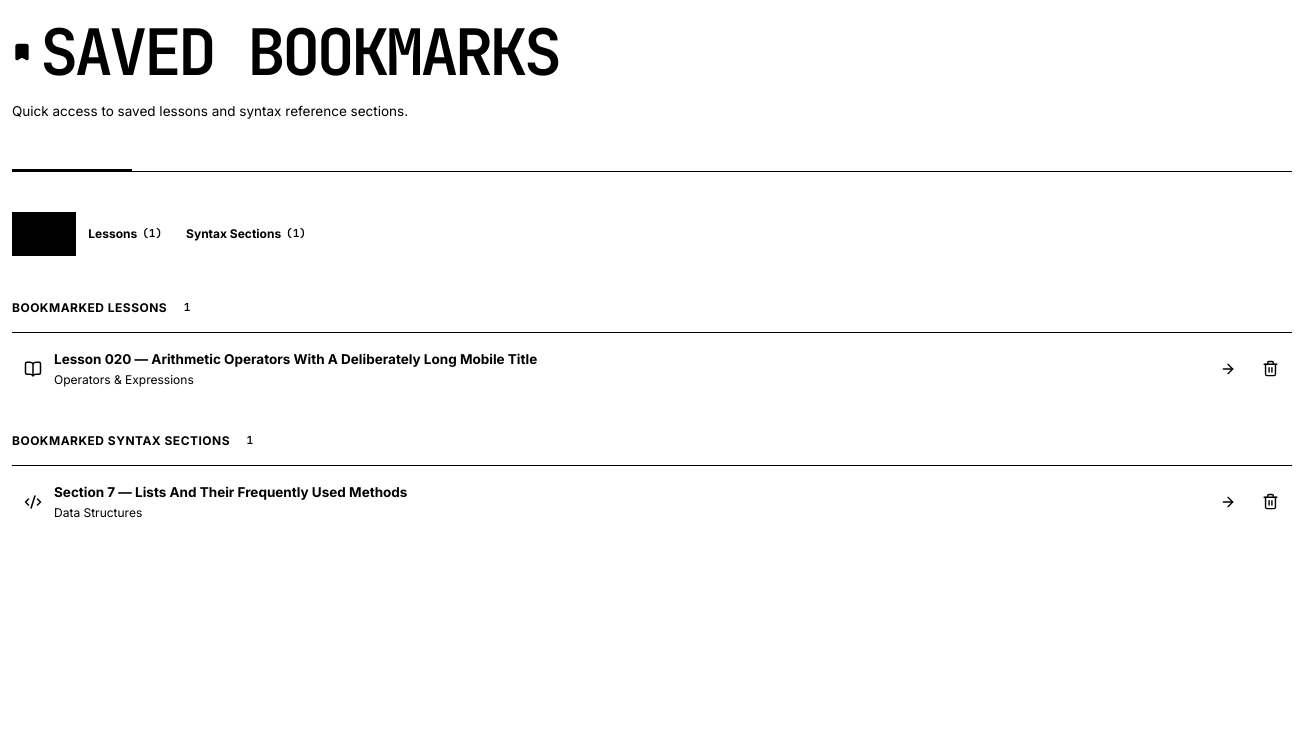
Test: bookmarks view › exposes counted filter tabs and filters lessons and syntax sections
Click the tab "Lessons (1)": (125, 234) [76,212,174,256]
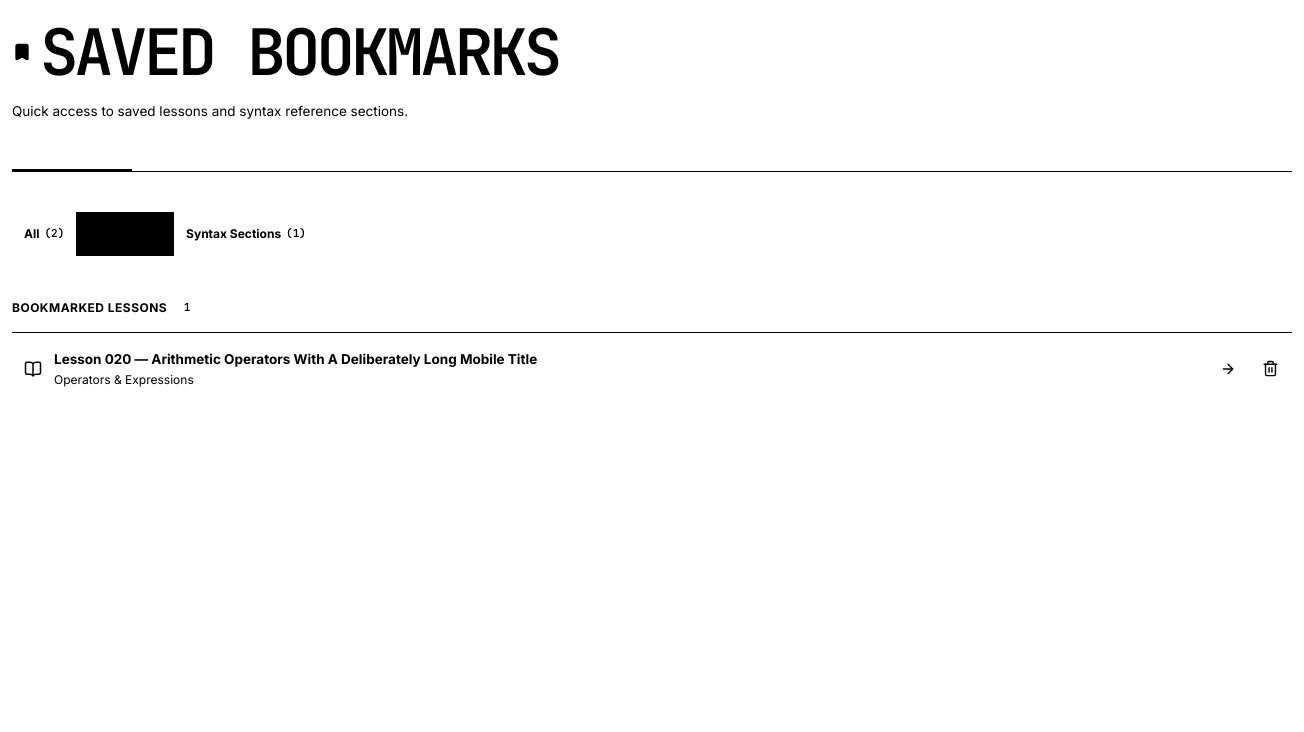
Expected: the button with aria-label "open lesson 020" is shown, [12,333,1248,405]
Expected: the tab "Lessons (1)" is selected, [76,212,174,256]
Click the tab "Syntax Sections (1)": (246, 234) [174,212,318,256]
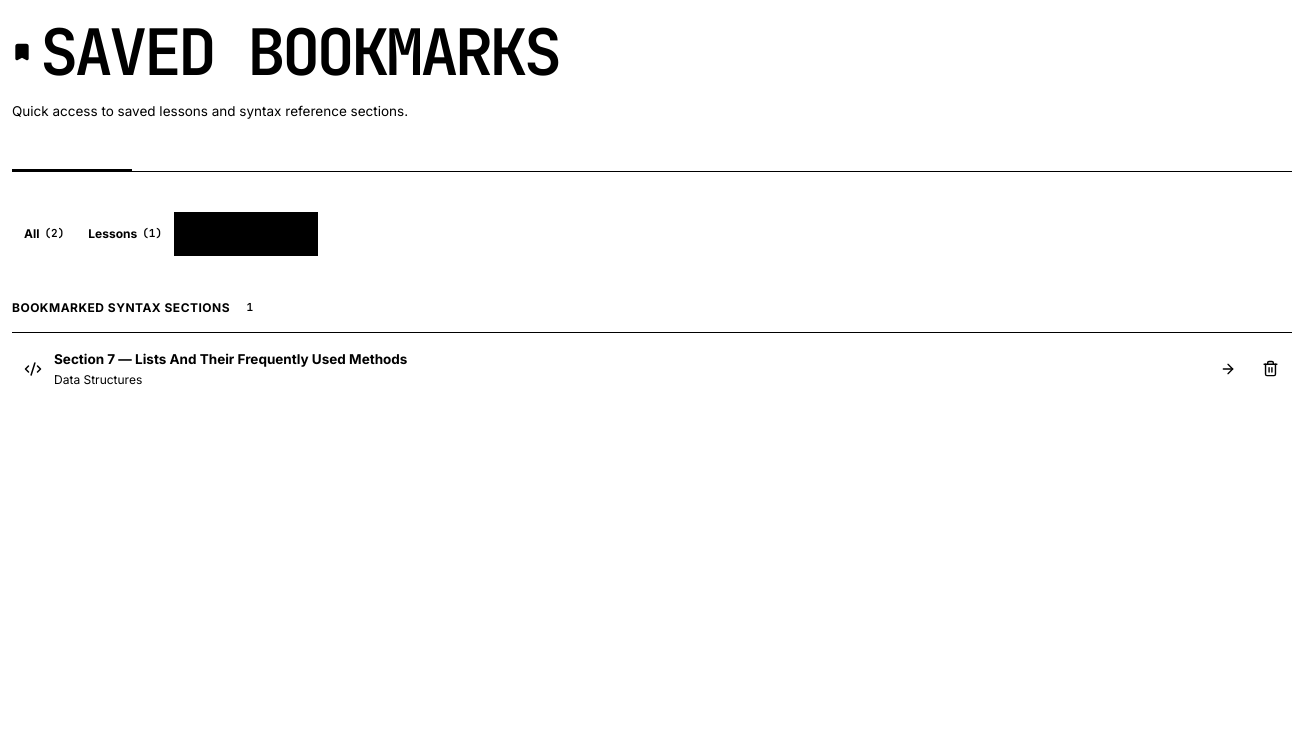
Expected: the button with aria-label "open syntax section 7" is shown, [12,333,1248,405]
